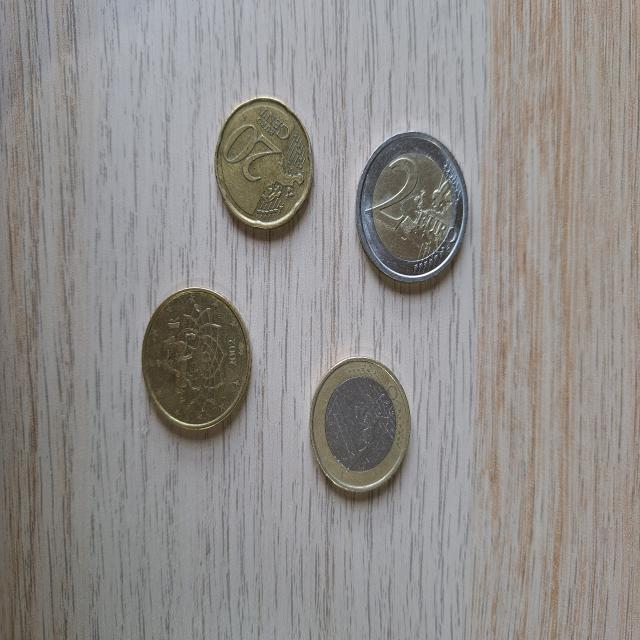1e: (309, 357, 412, 496)
20c: (215, 97, 315, 235)
2e: (356, 130, 469, 288)
50c: (142, 286, 252, 440)
